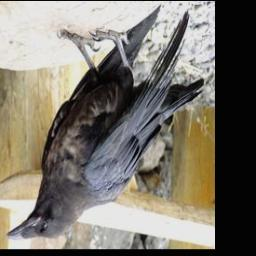Crow: (6, 8, 206, 242)
